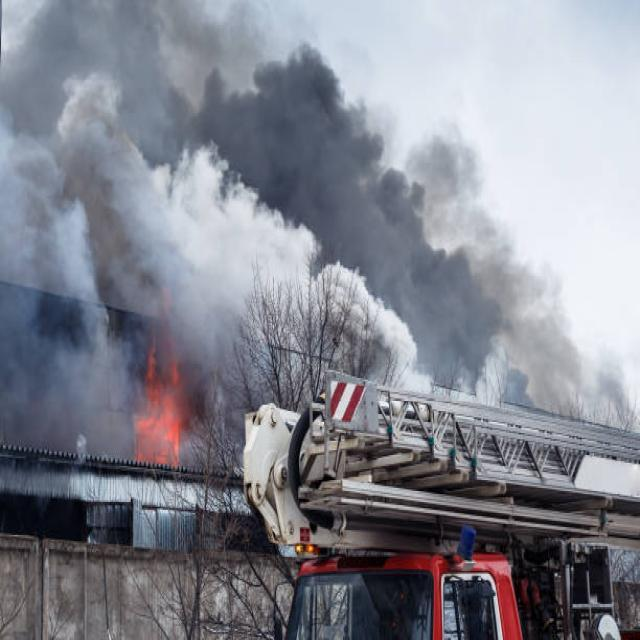Fire: (133, 345, 188, 472)
Smoke: (0, 2, 457, 322), (372, 236, 630, 409)
